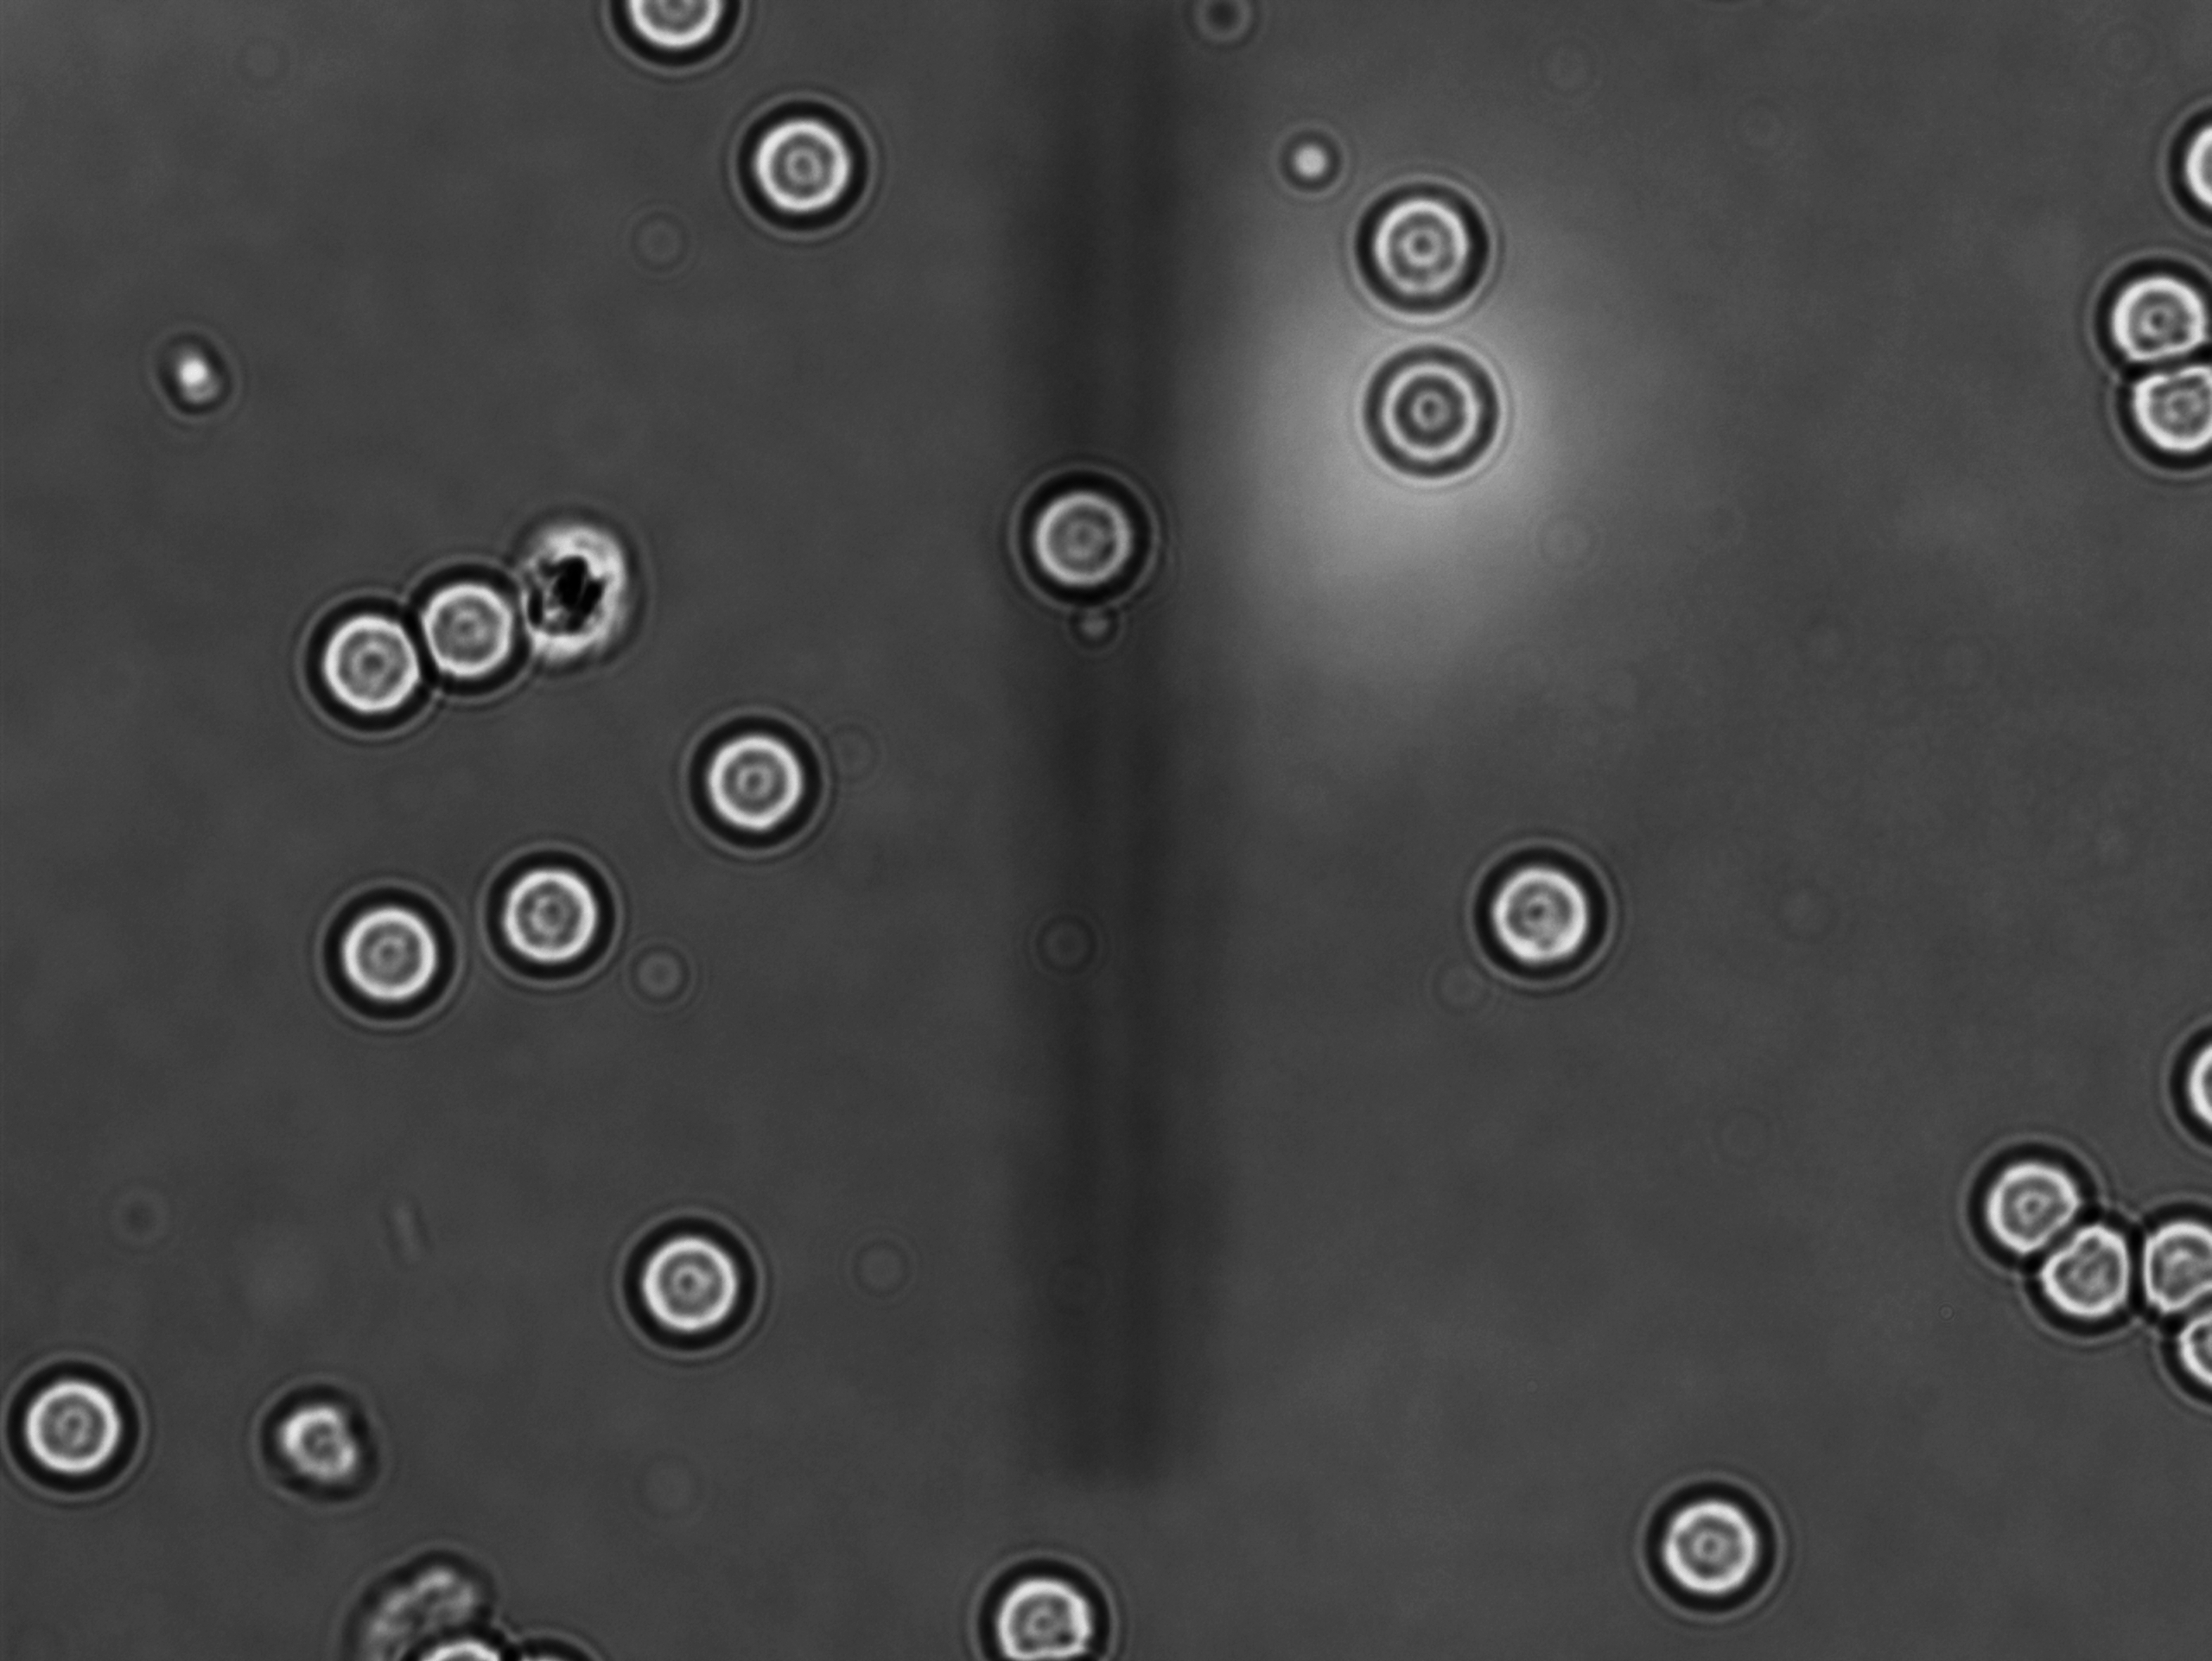depth:20: (1446, 817, 1628, 1003), (307, 865, 476, 1036), (1333, 174, 1512, 332), (668, 689, 837, 855), (1949, 1111, 2120, 1275), (394, 544, 567, 707), (471, 830, 647, 989), (595, 1202, 776, 1354), (1997, 1199, 2165, 1361), (1626, 1460, 1788, 1626), (281, 579, 445, 738), (1001, 457, 1160, 614), (1354, 340, 1516, 494), (726, 92, 881, 241), (956, 1537, 1132, 1661), (2071, 234, 2212, 387), (2102, 330, 2212, 492)
